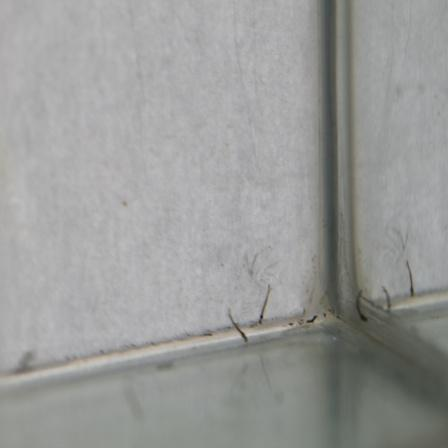Jentik-Nyamuk: (222, 308, 250, 343), (256, 280, 275, 328), (353, 288, 371, 324)
